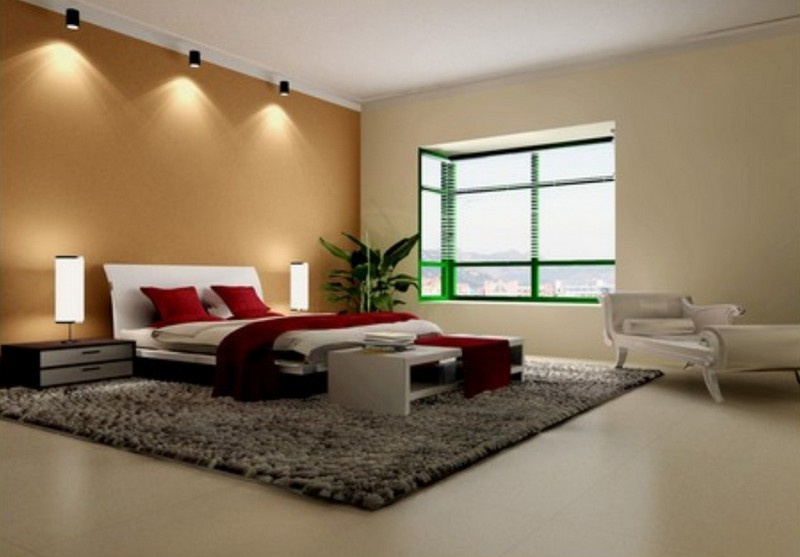bed: (102, 263, 446, 400)
lamp: (52, 253, 86, 342), (289, 259, 309, 315)
sofa: (603, 287, 800, 408)
stool: (328, 343, 454, 413)
